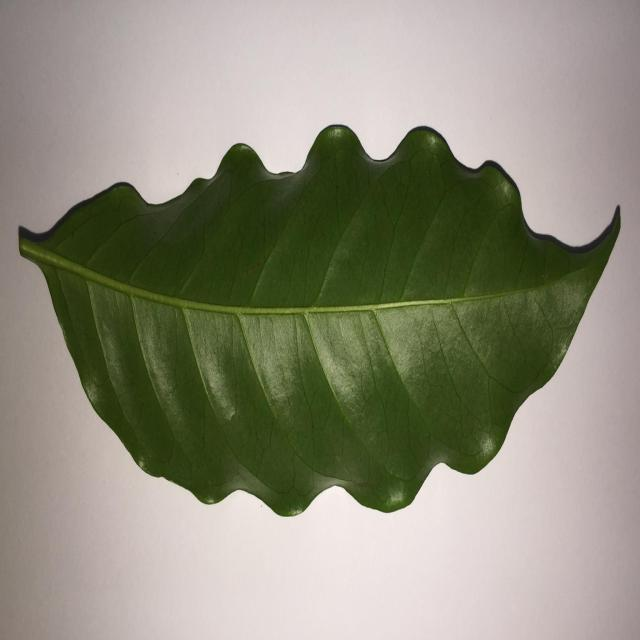Sanas: (17, 125, 624, 519)
